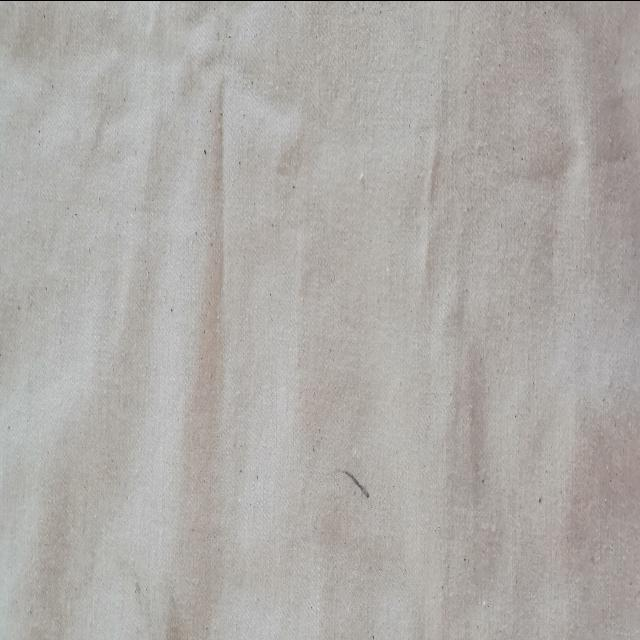taaaches: (336, 440, 379, 524), (151, 596, 199, 640)
